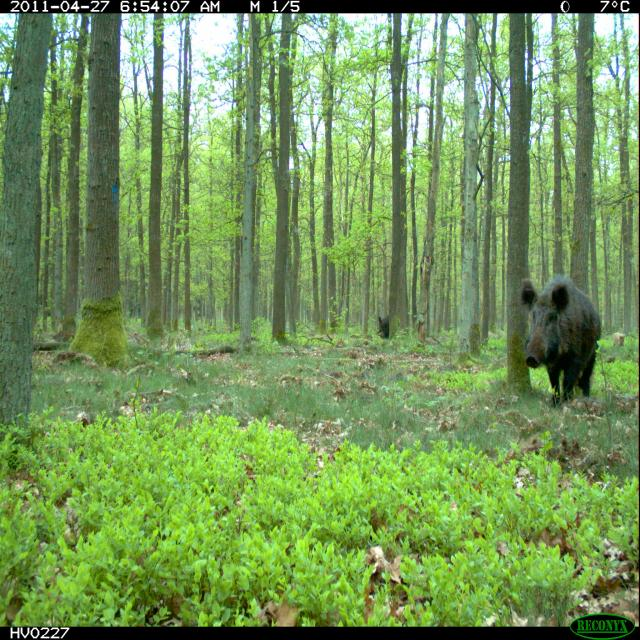boar: (482, 252, 621, 426), (370, 303, 395, 346)
